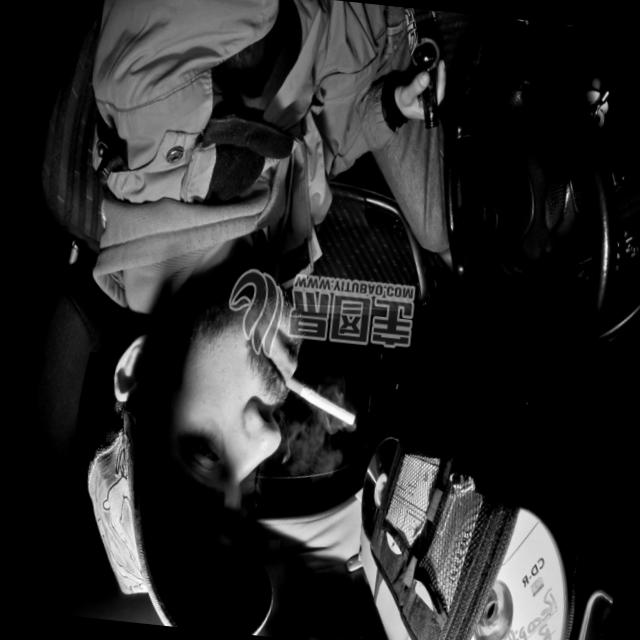smoke: (284, 370, 361, 426)
